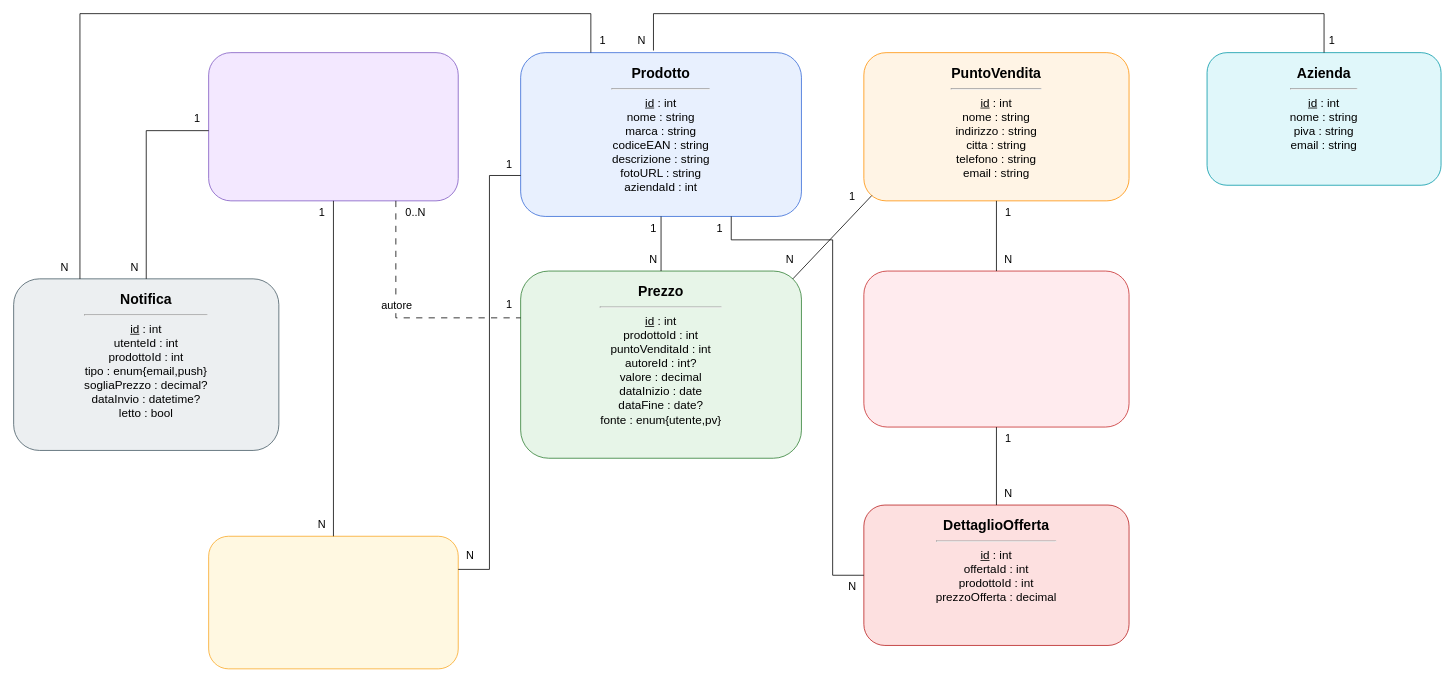
This 1455x683 diagram has some shape labels left out. Here are the shapes that lost their labels. From the top down, the centre of each, then its label:
[333,126]: Utente id : int nome : string email : string passwordHash : string ruolo : enum
[996,348]: Offerta id : int puntoVenditaId : int dataInizio : date dataFine : date
[333,602]: Watchlist id : int utenteId : int prodottoId : int sogliaPrezzo : decimal?
